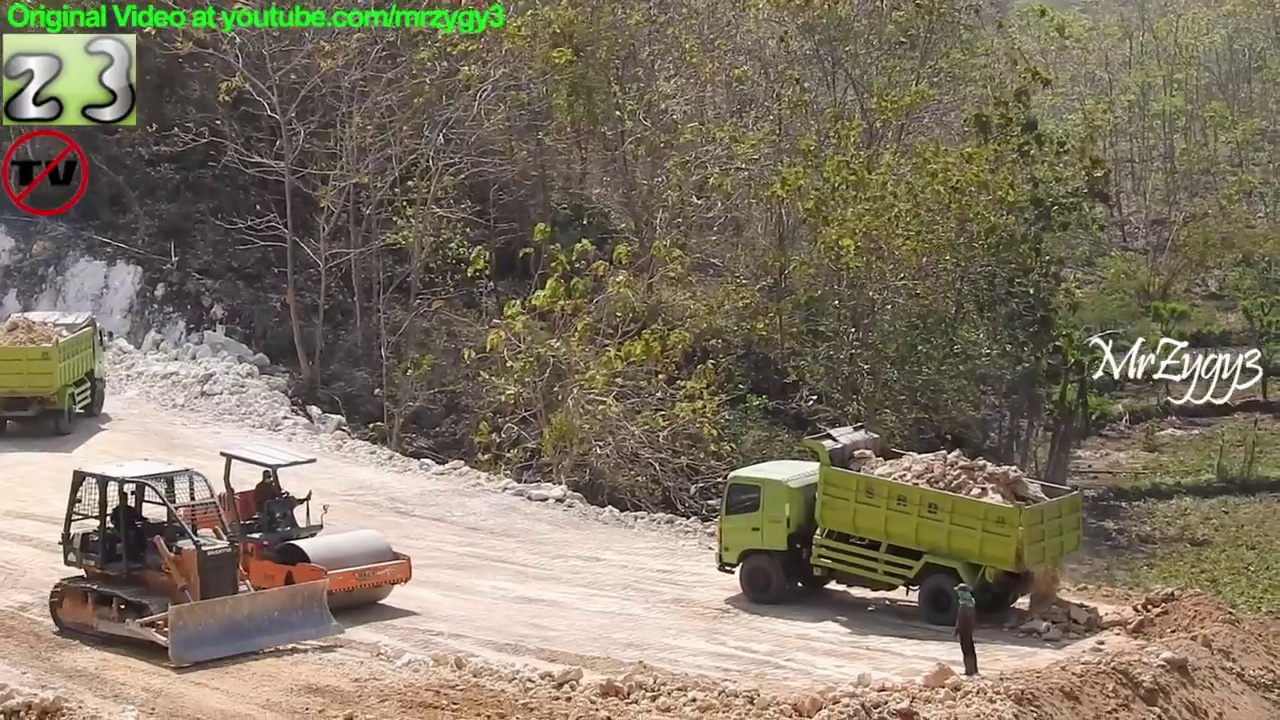bulldozer: (43, 454, 354, 674)
compactor: (154, 441, 415, 617)
truck: (698, 420, 1092, 631), (1, 305, 117, 440)
